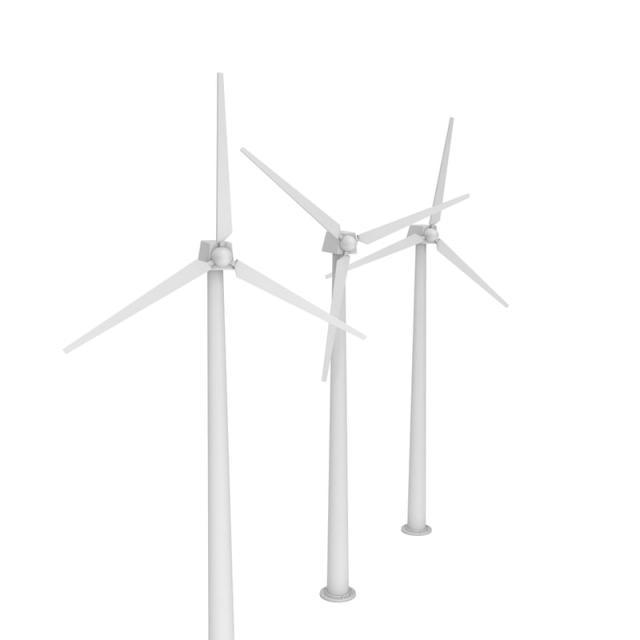solid-blade: (64, 260, 211, 352), (234, 260, 365, 338), (241, 149, 340, 238), (358, 194, 469, 243), (438, 239, 509, 307), (216, 72, 232, 242)
